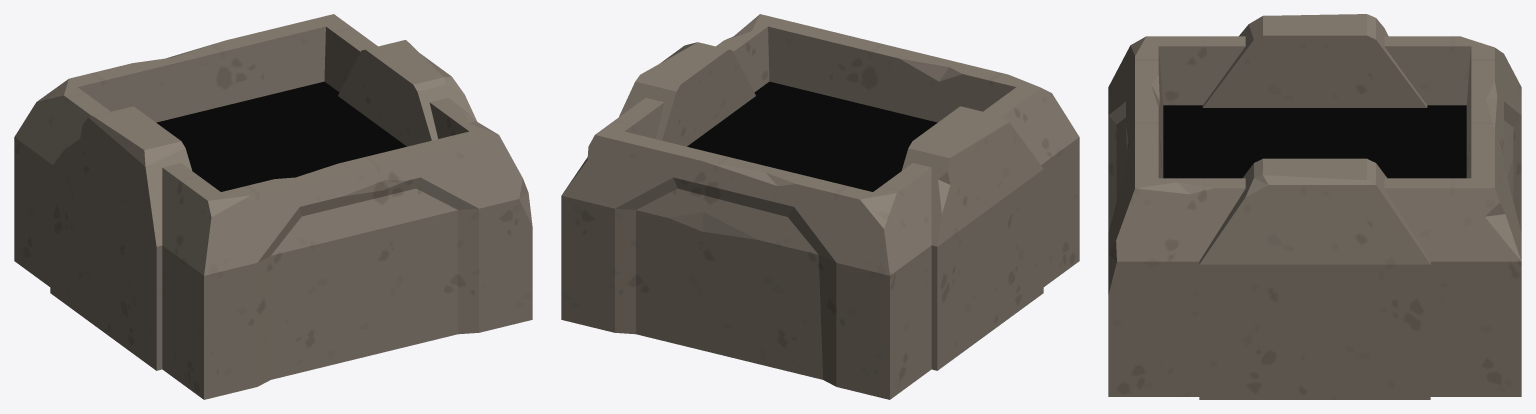
The model's file is forge_anvil_tools.gltf.
The picture shows the model from 3 angles, left to right: view 1: azimuth 30°, elevation 25°; view 2: azimuth 150°, elevation 25°; view 3: azimuth 270°, elevation 25°; orthographic projection. The views are drawn at different scales.
Parts seen in each view (by area): view 1: forge_anvil_tools; view 2: forge_anvil_tools; view 3: forge_anvil_tools.
Part boxes in pixels (x1,y1,x2,y2): forge_anvil_tools: (14, 14, 532, 399); forge_anvil_tools: (561, 14, 1079, 399); forge_anvil_tools: (1108, 14, 1521, 399).
Bounding box in the file's own units: 2.4 × 1.31 × 2.31.
1 material, 1 textured.
